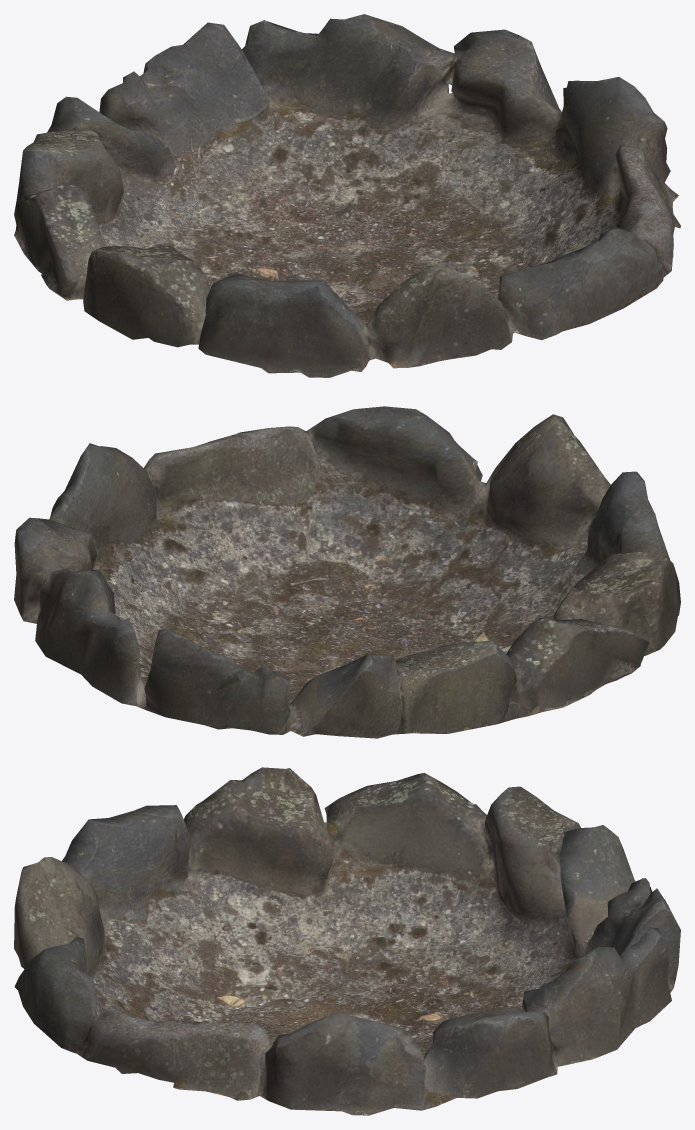
Rendered from stone_fire_pit.glb.
The picture shows the model from 3 angles, top to bottom: view 1: azimuth 30°, elevation 25°; view 2: azimuth 150°, elevation 25°; view 3: azimuth 270°, elevation 25°; orthographic projection.
Visible parts, largest first — view 1: stone_fire_pit; view 2: stone_fire_pit; view 3: stone_fire_pit.
Part boxes in pixels (left/top/right/bottom): stone_fire_pit: left=14, top=14, right=680, bottom=377; stone_fire_pit: left=14, top=406, right=680, bottom=738; stone_fire_pit: left=14, top=767, right=680, bottom=1115.
Bounding box in the file's own units: 1.45 × 0.3884 × 1.43.
1 material, 1 textured.
